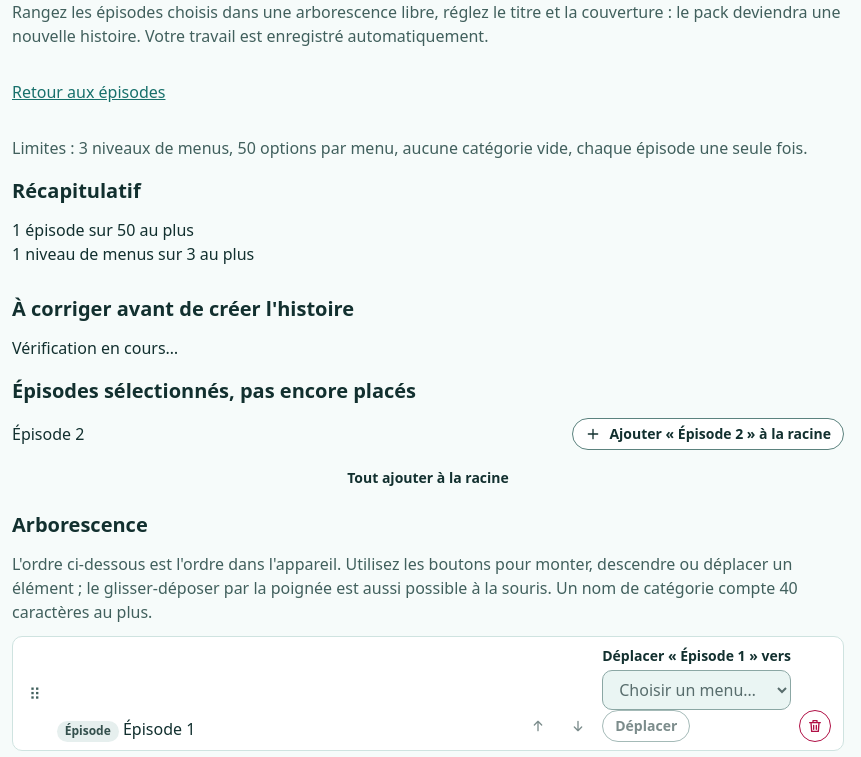
Scenario: un épisode sélectionné après coup se place à la racine
Click the button "Ajouter « Épisode 2 » à la racine": {"x": 708, "y": 434} [572, 418, 844, 450]
(page scrolled)
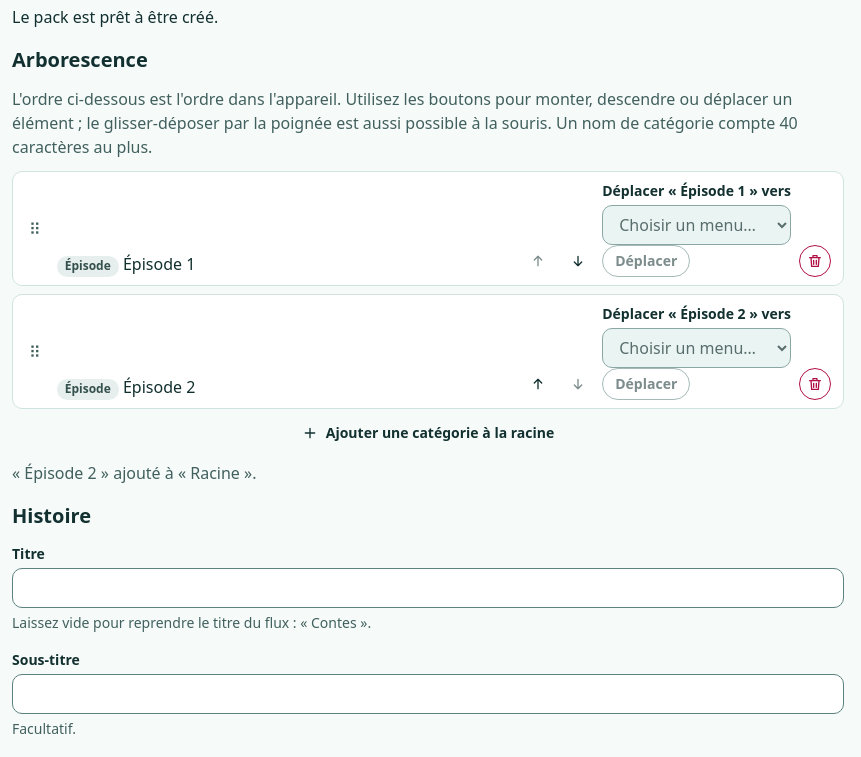
Expected: the button named "Monter « Épisode 2 »" is enabled, [522, 368, 554, 400]
Expected: the heading "Épisodes sélectionnés, pas encore placés" is gone
